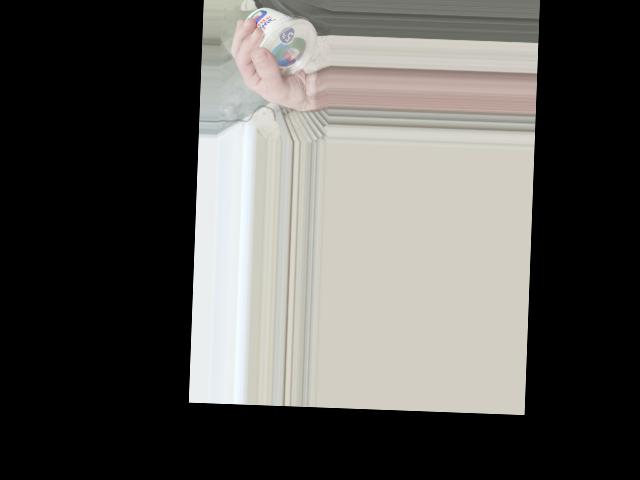cotage: (240, 7, 321, 75)
